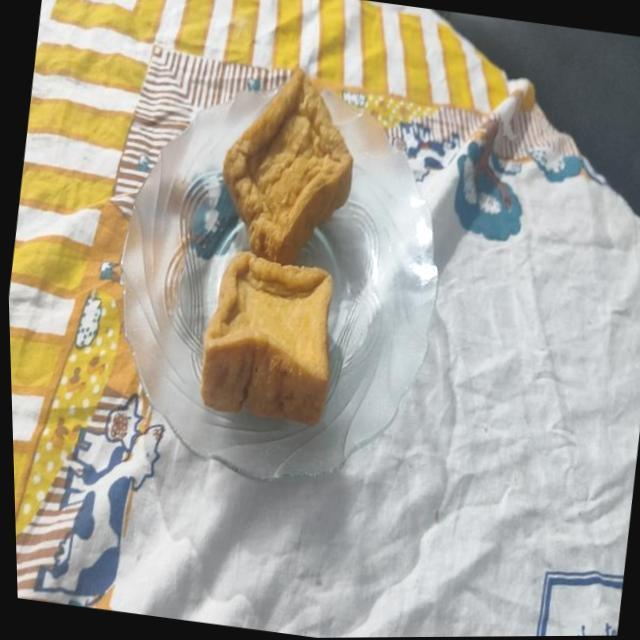tahu_goreng: (222, 70, 352, 264), (200, 252, 332, 426)
